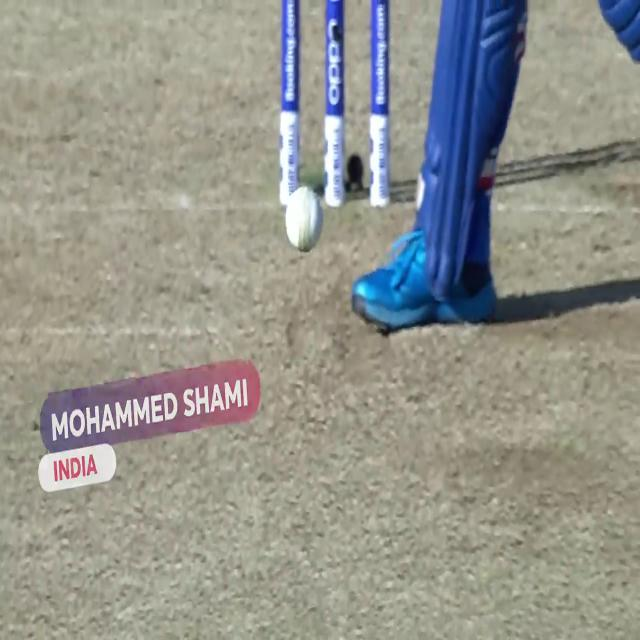ball: (284, 184, 323, 253)
